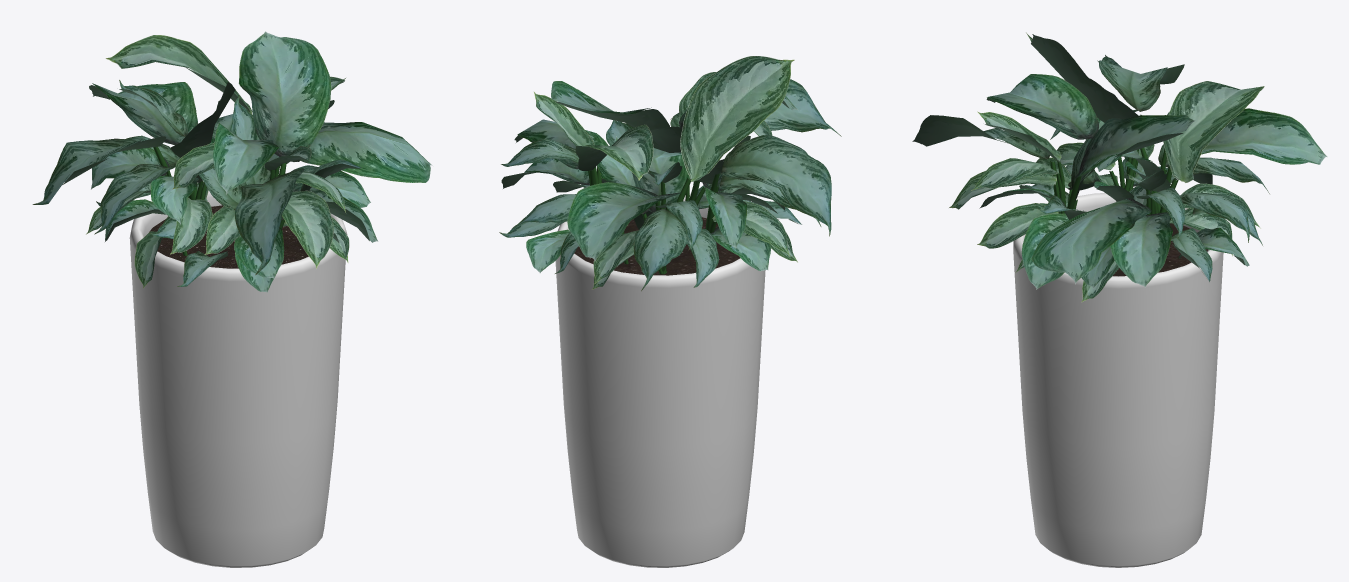
The model's file is tall_potted_house_plant.glb.
The picture shows the model from 3 angles, left to right: view 1: azimuth 30°, elevation 25°; view 2: azimuth 150°, elevation 25°; view 3: azimuth 270°, elevation 25°; orthographic projection. The views are drawn at different scales.
Parts seen in each view (by area): view 1: potTall_aglaonema_phong1_0, potTall_aglaonema_phong2_0, potTall_aglaonema_phong4_0; view 2: potTall_aglaonema_phong1_0, potTall_aglaonema_phong2_0, potTall_aglaonema_phong4_0; view 3: potTall_aglaonema_phong1_0, potTall_aglaonema_phong2_0, potTall_aglaonema_phong4_0.
Part boxes in pixels (box(x1,y1,x2,y2)): potTall_aglaonema_phong1_0: box(129, 190, 347, 567); potTall_aglaonema_phong2_0: box(32, 31, 432, 292); potTall_aglaonema_phong4_0: box(149, 205, 308, 268); potTall_aglaonema_phong1_0: box(555, 193, 765, 567); potTall_aglaonema_phong2_0: box(499, 56, 841, 291); potTall_aglaonema_phong4_0: box(574, 217, 739, 275); potTall_aglaonema_phong1_0: box(1013, 193, 1223, 567); potTall_aglaonema_phong2_0: box(912, 32, 1327, 302); potTall_aglaonema_phong4_0: box(1113, 223, 1207, 276).
Size of the model in its own units: 1.25 by 1.61 by 1.3.
3 materials, 2 textured.
